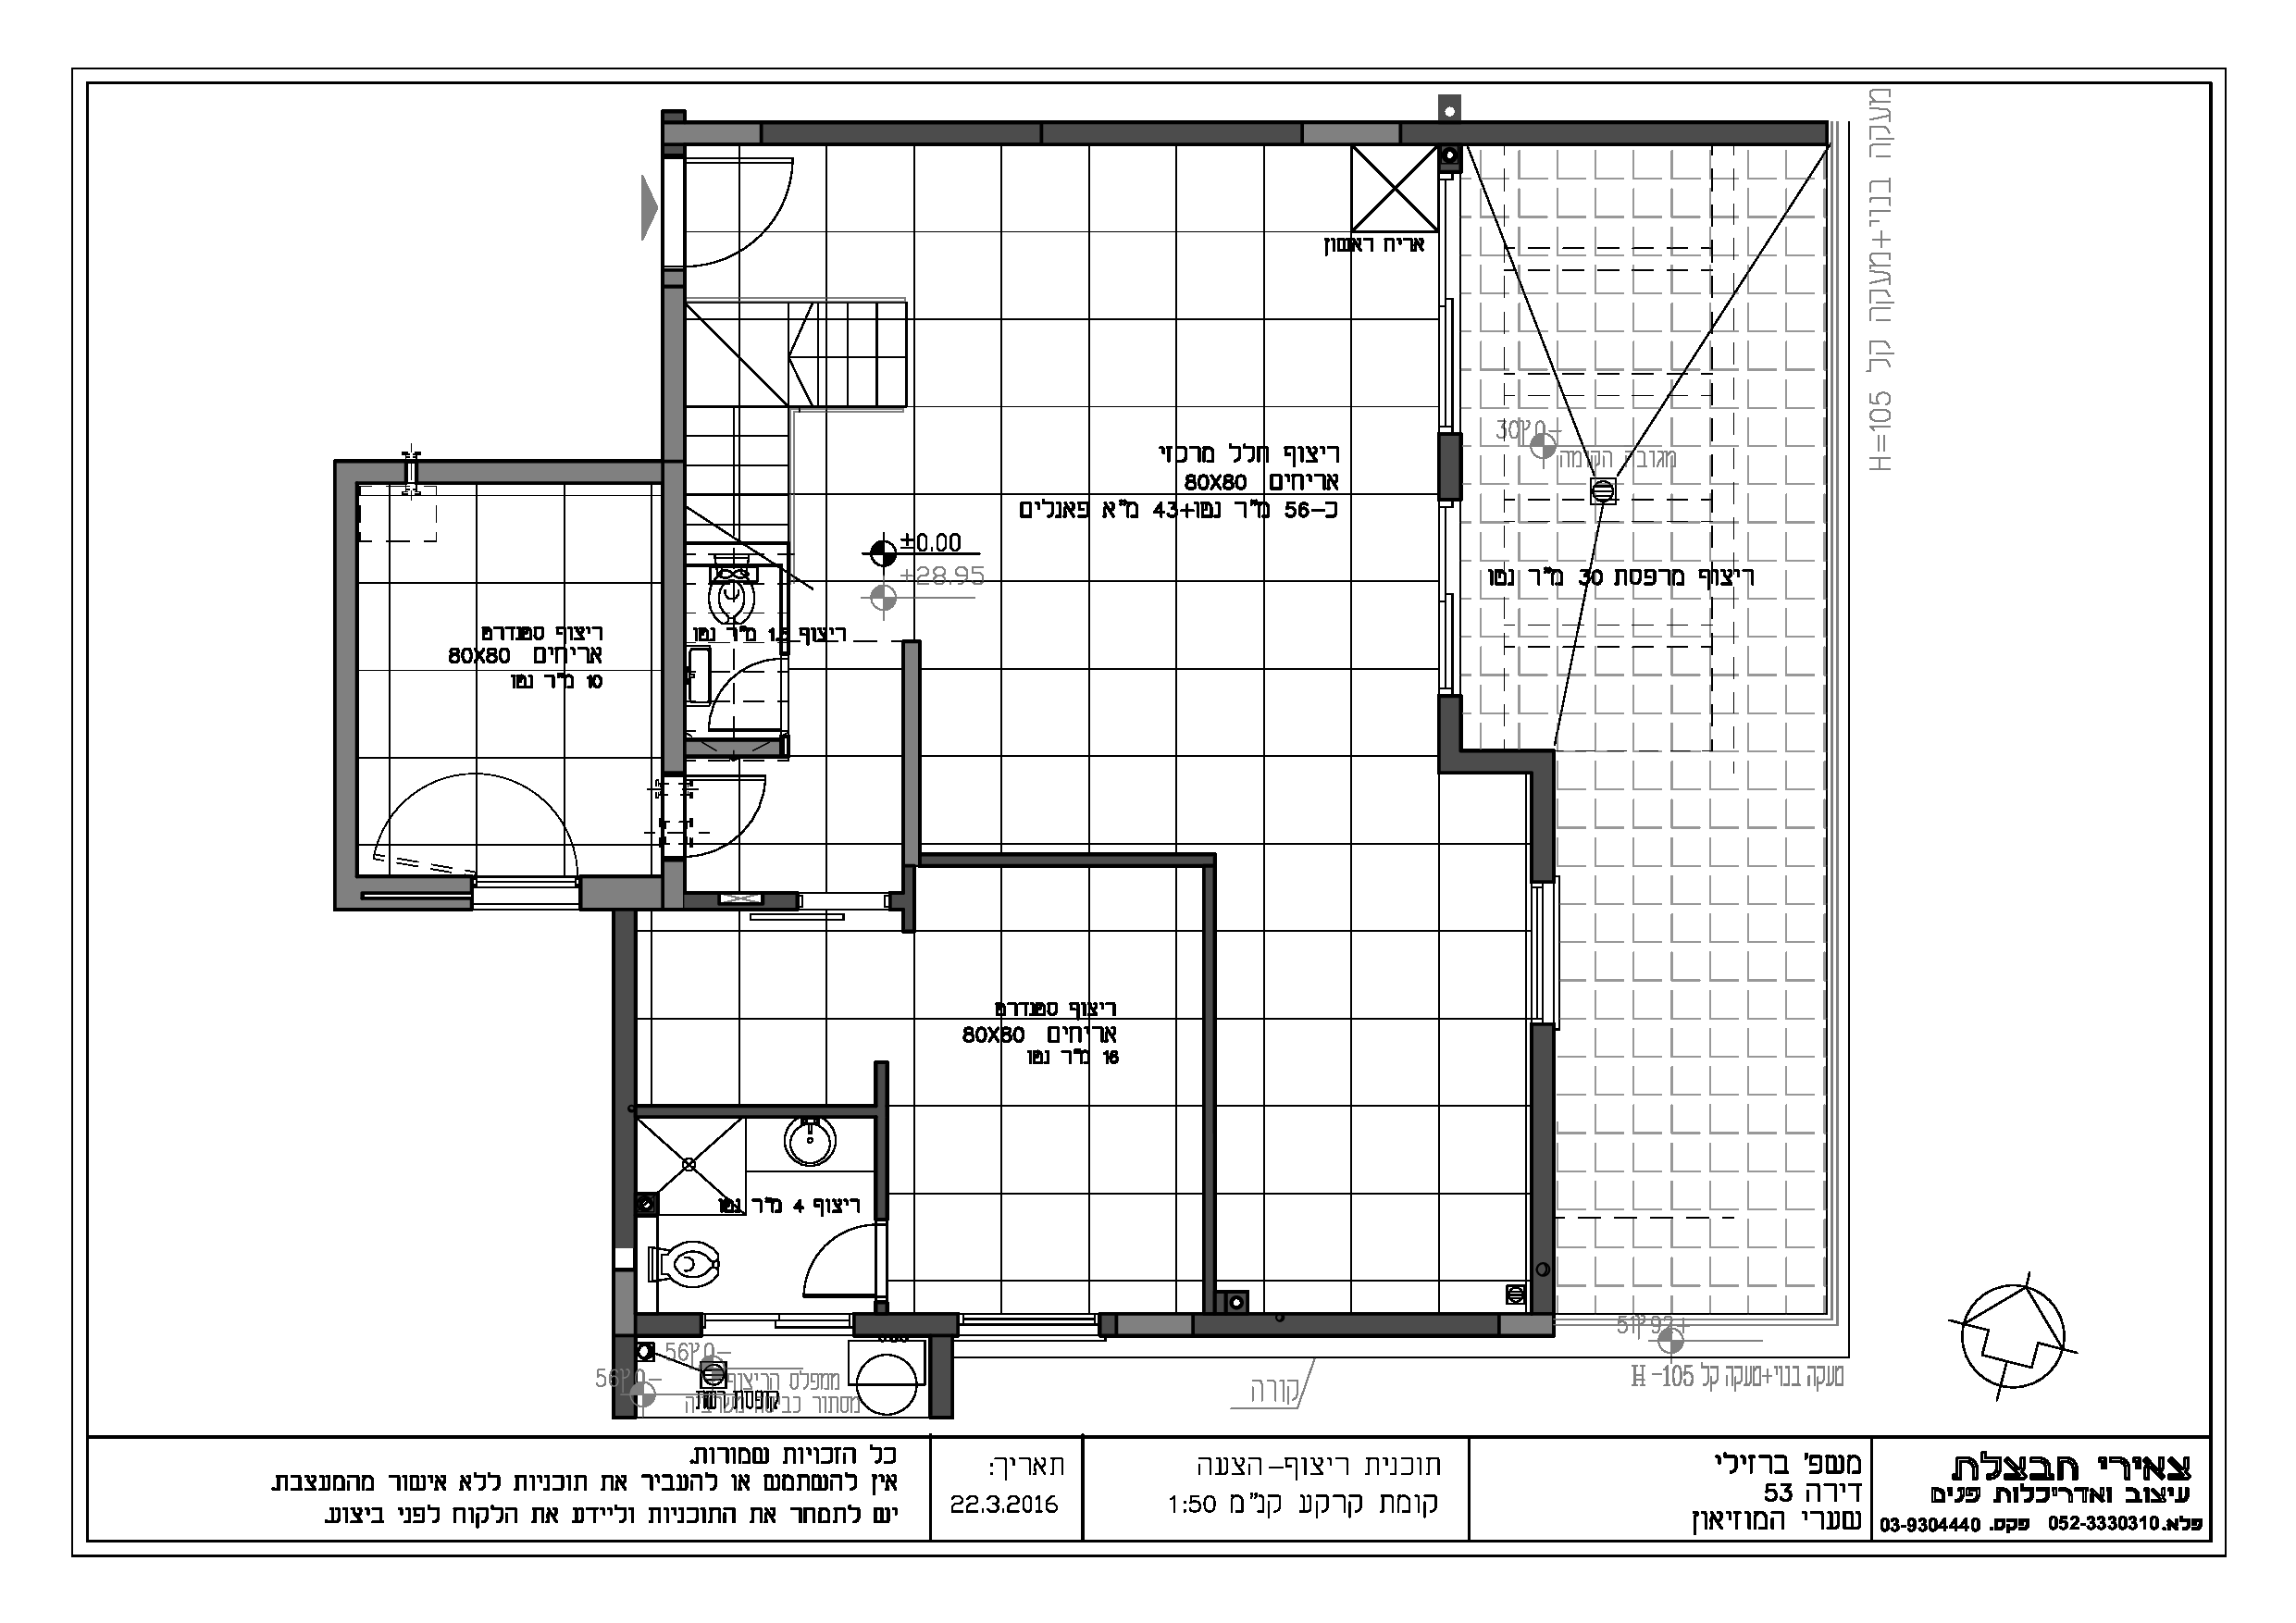door: (704, 155, 810, 270), (783, 1224, 868, 1305)
wall: (339, 467, 353, 891), (1412, 126, 1808, 139), (617, 913, 631, 1235), (1205, 1319, 1477, 1333), (1059, 128, 1289, 142), (430, 464, 659, 478), (776, 128, 1029, 141), (668, 469, 678, 762), (924, 855, 1210, 866), (1535, 1038, 1548, 1251), (666, 300, 682, 450), (1207, 871, 1212, 1310), (908, 646, 913, 859)
window: (1423, 497, 1472, 697), (1432, 170, 1465, 436), (1525, 880, 1569, 1024), (469, 869, 581, 922), (699, 1302, 856, 1338), (956, 1305, 1103, 1342)
